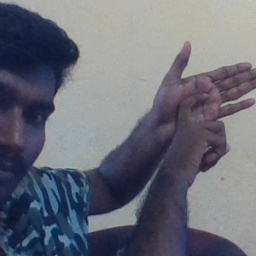R: (145, 38, 256, 176)
